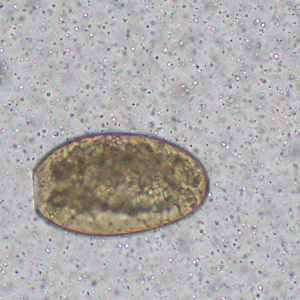Fasciola_hepatica_egg: (31, 129, 211, 238)
